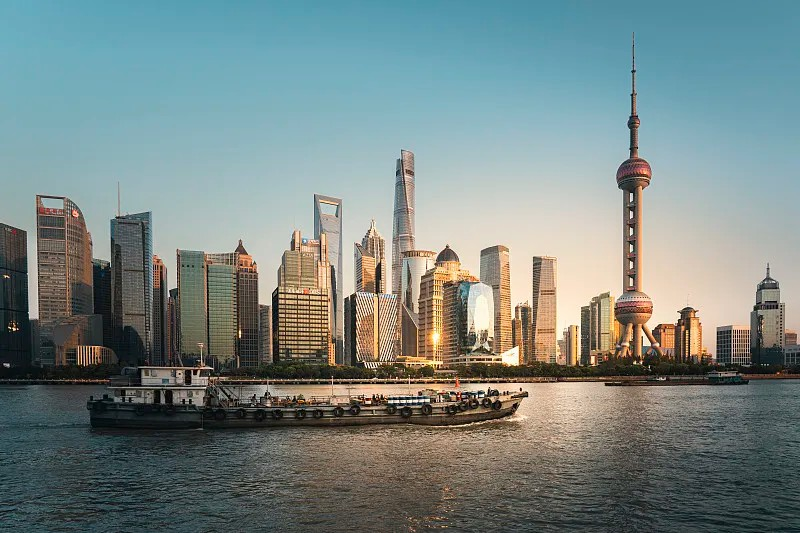Oriental: (614, 33, 664, 356)
